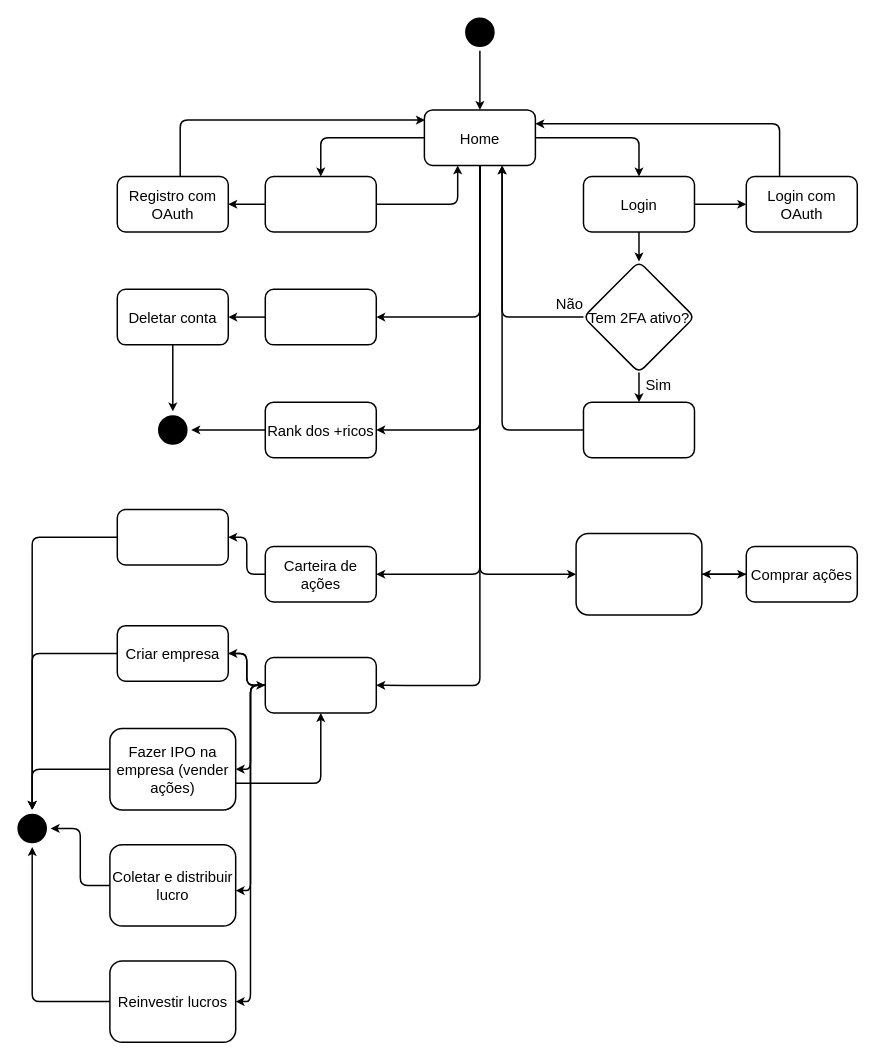
This 870x1055 diagram has some shape labels left out. Here are the shapes that lost their labels. From the top down, the box of each, then its label:
(264, 175, 377, 232): Cadastro
(264, 288, 377, 345): Editar perfil
(582, 401, 695, 458): Código do 2FA
(116, 508, 229, 565): Vender ações
(575, 532, 702, 615): Home Broker (lista de empresas para comprar)
(264, 656, 377, 713): Minhas empresas
